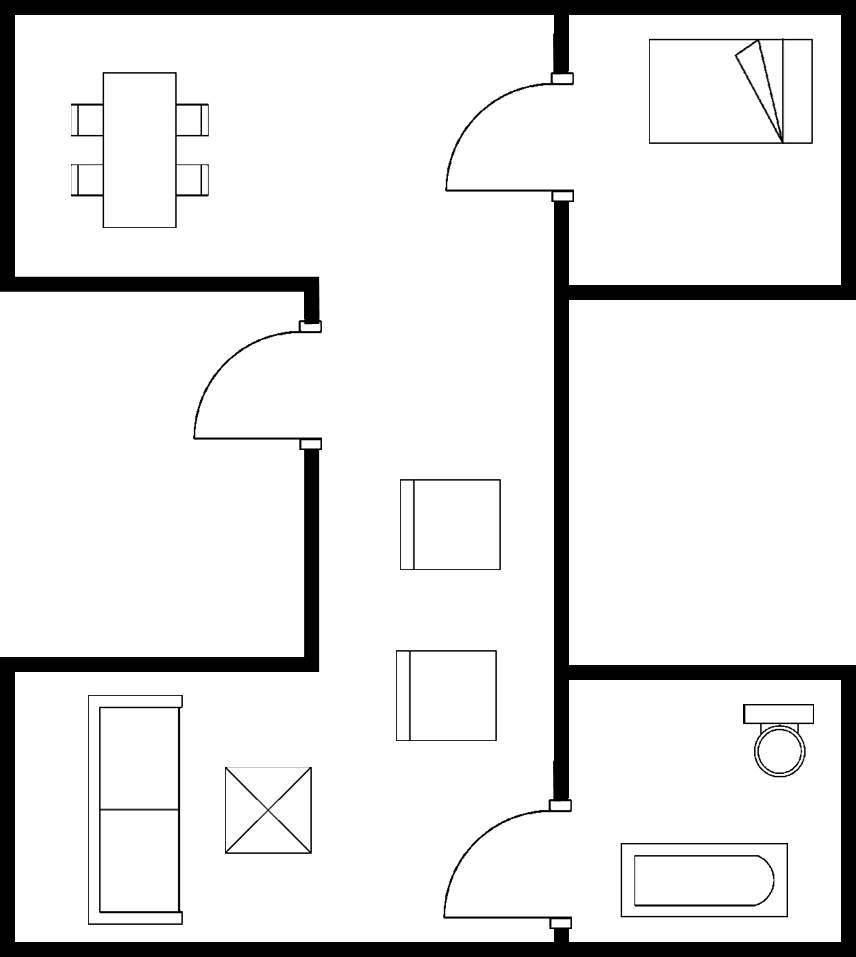bed: (640, 30, 821, 155)
coffee_table: (213, 758, 320, 860)
dining_table: (62, 63, 218, 236)
large_sink: (733, 693, 822, 782)
large_sofa: (78, 686, 189, 932)
small_sofa: (392, 473, 508, 582), (385, 645, 503, 750)
tub: (613, 836, 795, 924)
